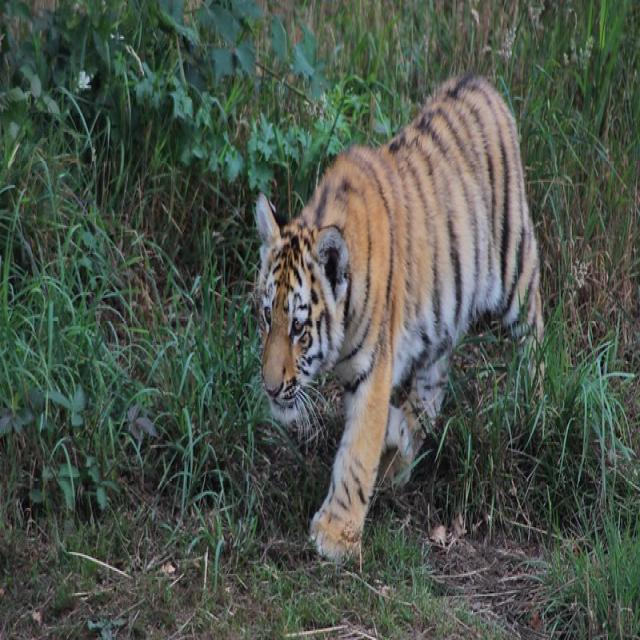Tiger: (252, 72, 542, 556)
